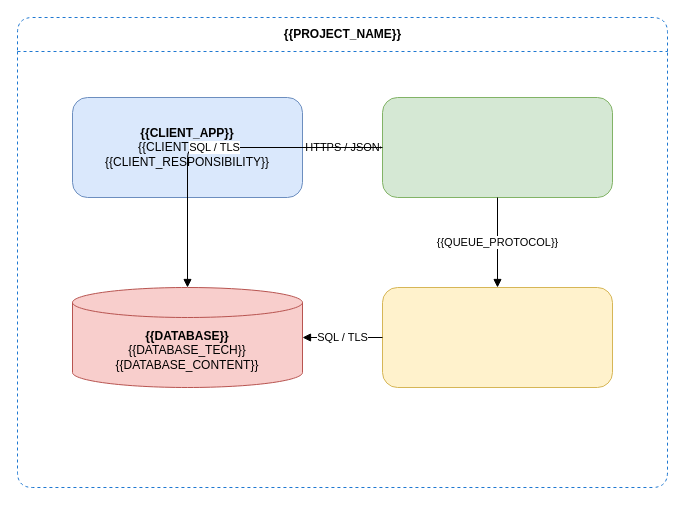
Some shapes in this 685 by 505 pixel diagram are drawn without their labels. The shapes that lost their labels are listed below. From the top down, each one's centre as x and y in pixels, then its label:
the point at 497,147: {{API_APP}} {{API_TECH}} {{API_RESPONSIBILITY}}
the point at 497,337: {{WORKER_APP}} {{WORKER_TECH}} {{WORKER_RESPONSIBILITY}}
